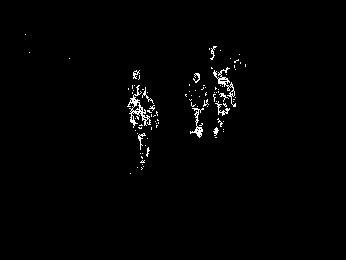person: (126, 84, 159, 171), (211, 68, 238, 139), (183, 71, 209, 138)
